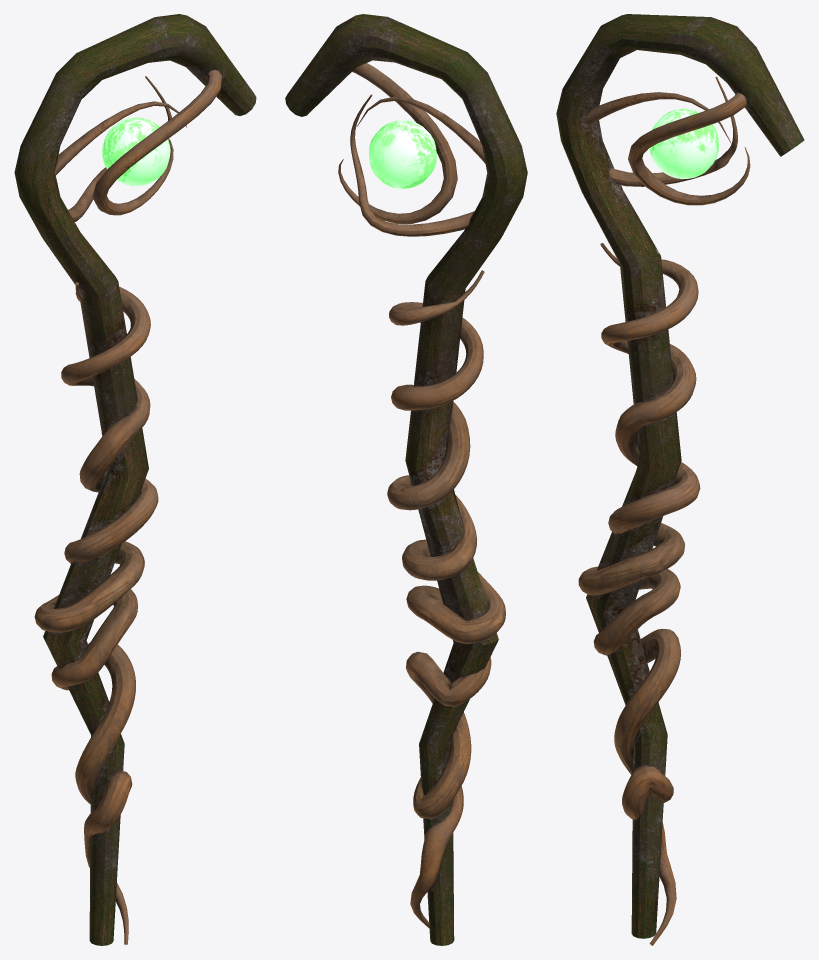
Rendered from Better Staff.gltf.
3 renders of one model, left to right at view 1: azimuth 30°, elevation 25°; view 2: azimuth 150°, elevation 25°; view 3: azimuth 330°, elevation 25°, orthographic. The views are drawn at different scales.
Parts seen in each view (by area): view 1: Object_2; view 2: Object_2; view 3: Object_2.
Part boxes in pixels (bbox=[...]): Object_2: bbox=[14, 14, 256, 945]; Object_2: bbox=[285, 14, 527, 945]; Object_2: bbox=[556, 14, 804, 945].
Bounding box in the file's own units: 7.19 × 26.33 × 3.02.
1 material, 1 textured.
